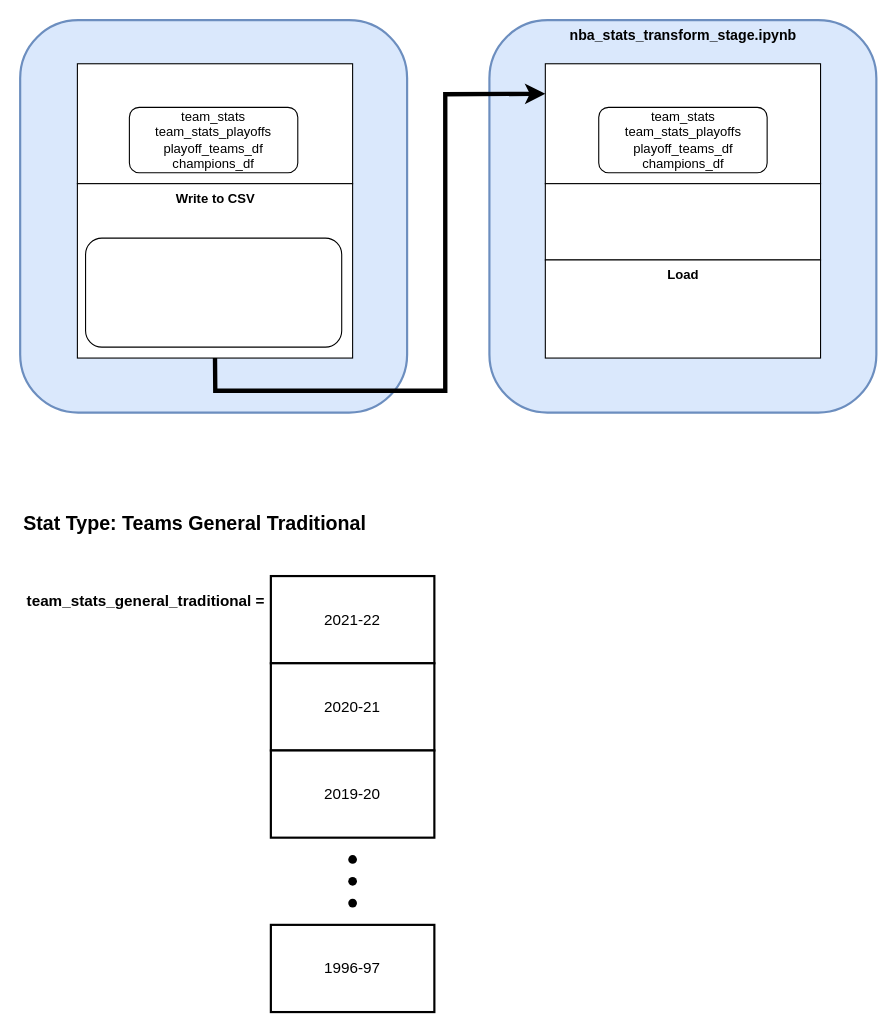
This 896x1031 diagram has some shape labels left out. The shapes that lost their labels are listed below. From the top down, each one's box as (x1, y1, x2, y2) in pixels, then its label:
(76, 63, 353, 184): Extract
(544, 63, 821, 184): Read from CSV
(19, 19, 408, 413): nba_stats_extract_stage.ipynb
(544, 183, 821, 260): Transform
(84, 237, 342, 347): teams_general_traditional.csv . . . playoff_teams_df.csv champions_df.csv
